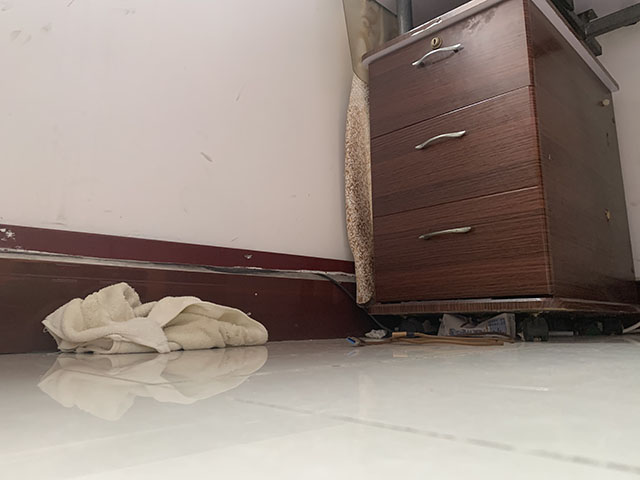cabinet: (360, 1, 640, 343)
wire: (198, 266, 640, 341)
